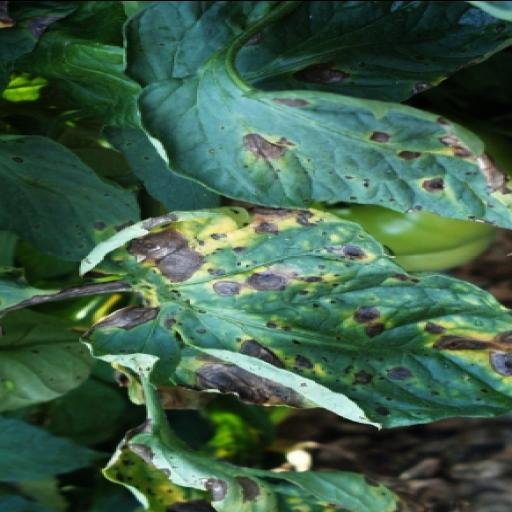Early Blight: (58, 206, 512, 432), (132, 75, 512, 232)
